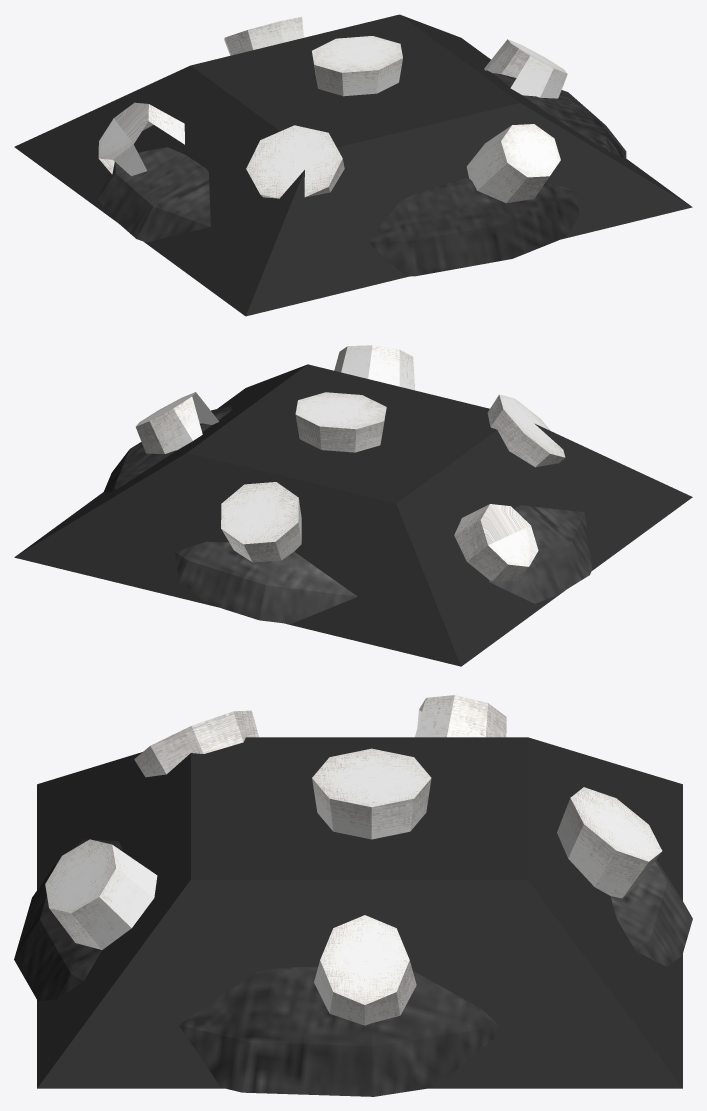
The model's file is landmine.fbx.
3 views of the same model, one above another, from view 1: azimuth 30°, elevation 25°; view 2: azimuth 150°, elevation 25°; view 3: azimuth 270°, elevation 25° (orthographic). The views are drawn at different scales.
Visible parts, largest first — view 1: Col, lm; view 2: Col, lm; view 3: Col, lm.
Part boxes in pixels (box(x1,y1,x2,y2)): Col: box(14, 14, 692, 316); lm: box(98, 16, 626, 276); Col: box(14, 364, 692, 666); lm: box(104, 345, 591, 624); Col: box(37, 737, 682, 1088); lm: box(14, 695, 692, 1096).
Size of the model in its own units: 0.3324 by 0.0843 by 0.3024.
2 materials, 2 textured.
